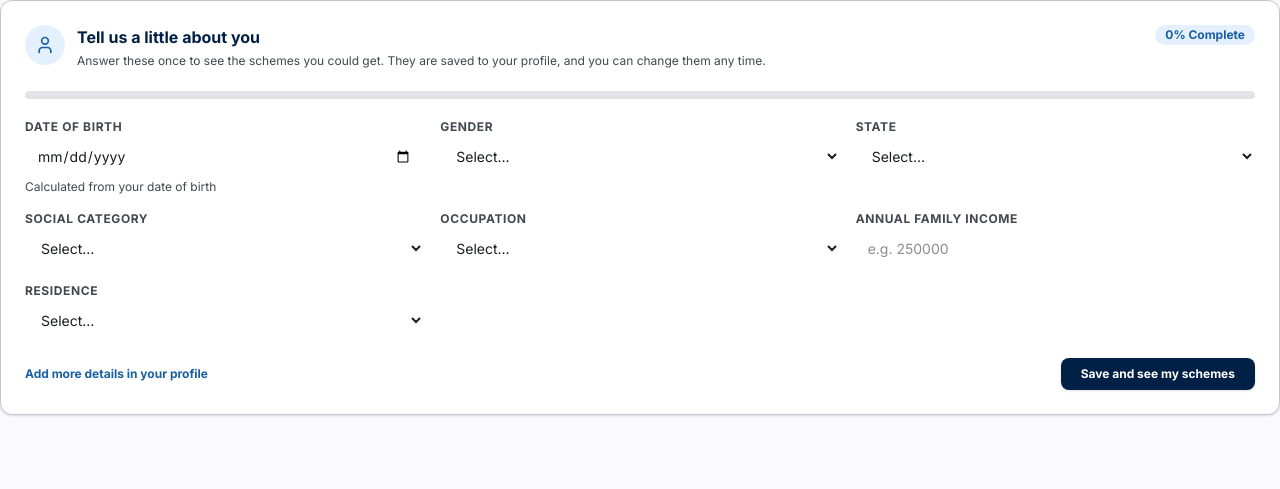
Scenario: QuickProfileForm: answer the missing profile questions in place › shows a failed save, and the field the server objected to
In the date field labelled "Date of Birth": [225, 156] box top-left (25, 138), bottom-right (424, 174), type "1985-02-10"
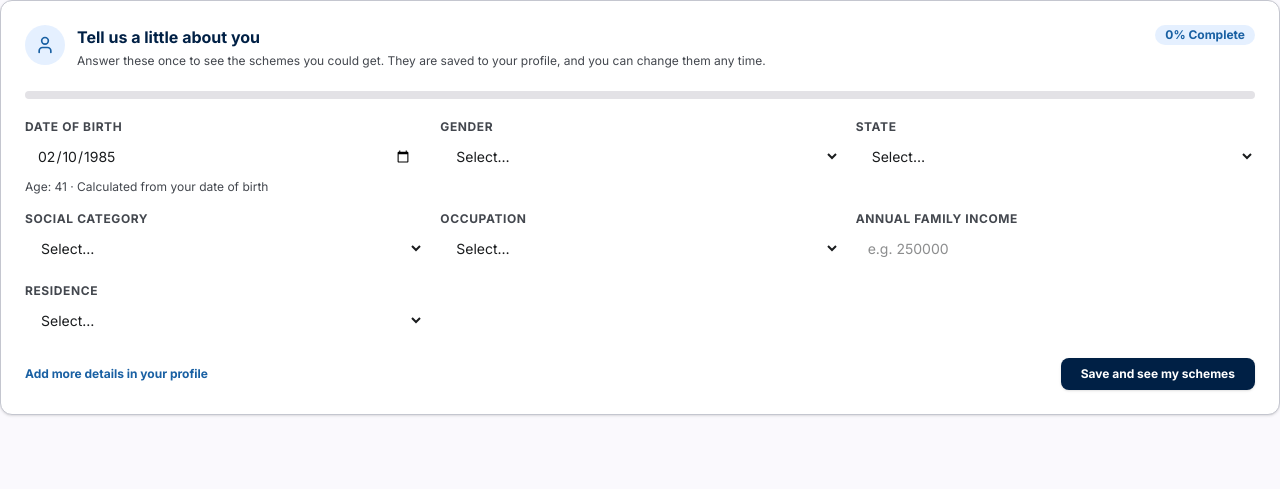
Click the button "Save and see my schemes": [1158, 374] box top-left (1061, 358), bottom-right (1255, 390)
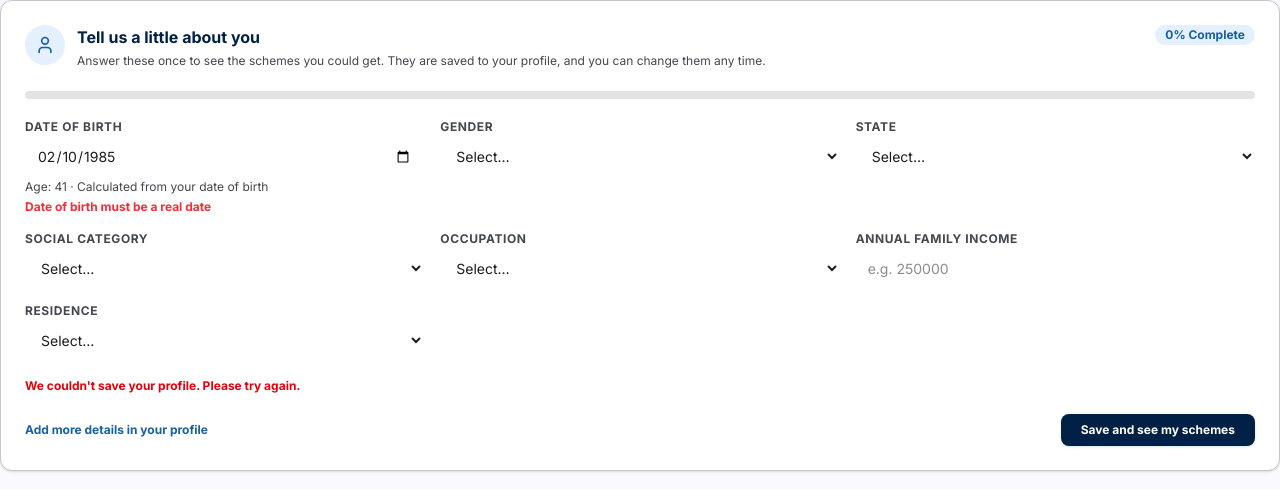
Now the message reads "We couldn't save your profile. Please try again.", box top-left (25, 378), bottom-right (300, 392)
Now the text "Date of birth must be a real date" is shown, box top-left (25, 198), bottom-right (211, 214)
